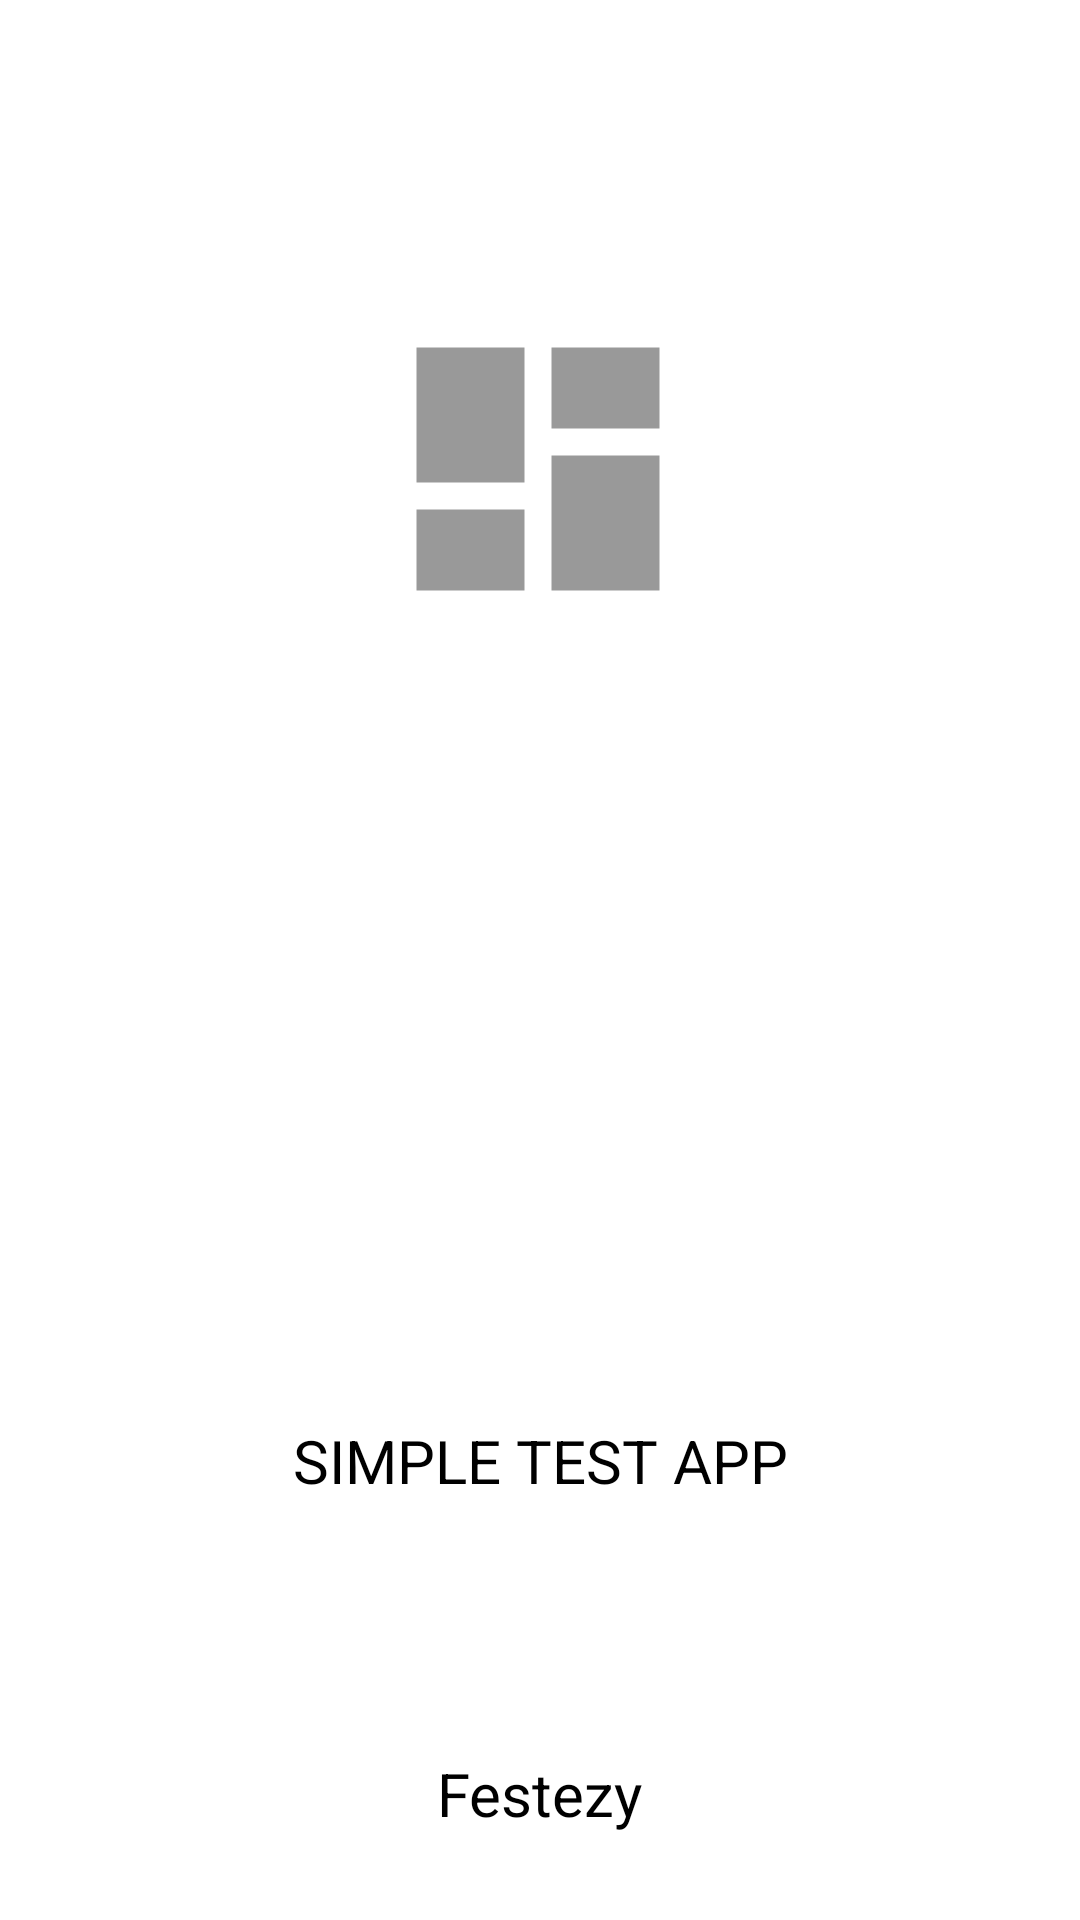

Named icons in this screenshot (1080 x 1920) and their centers, (x,y):
dashboard: (538,469)
